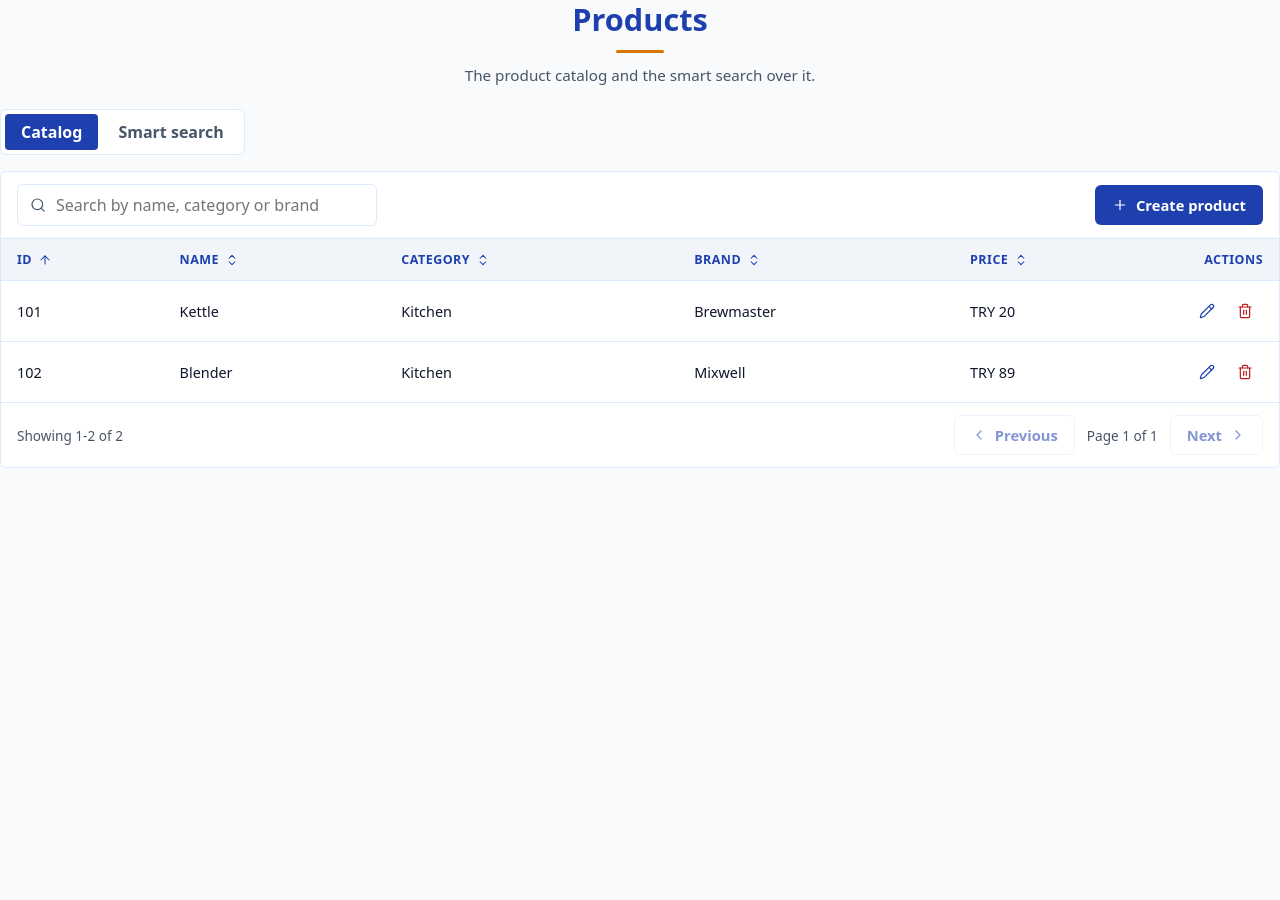
it: a price with three decimals or above 999.99 is refused
This screenshot has width=1280, height=900.
Expected: the text "Kettle" is shown, [164, 281, 385, 342]
Click the button "Create product" at (1179, 205), box [1095, 185, 1263, 225]
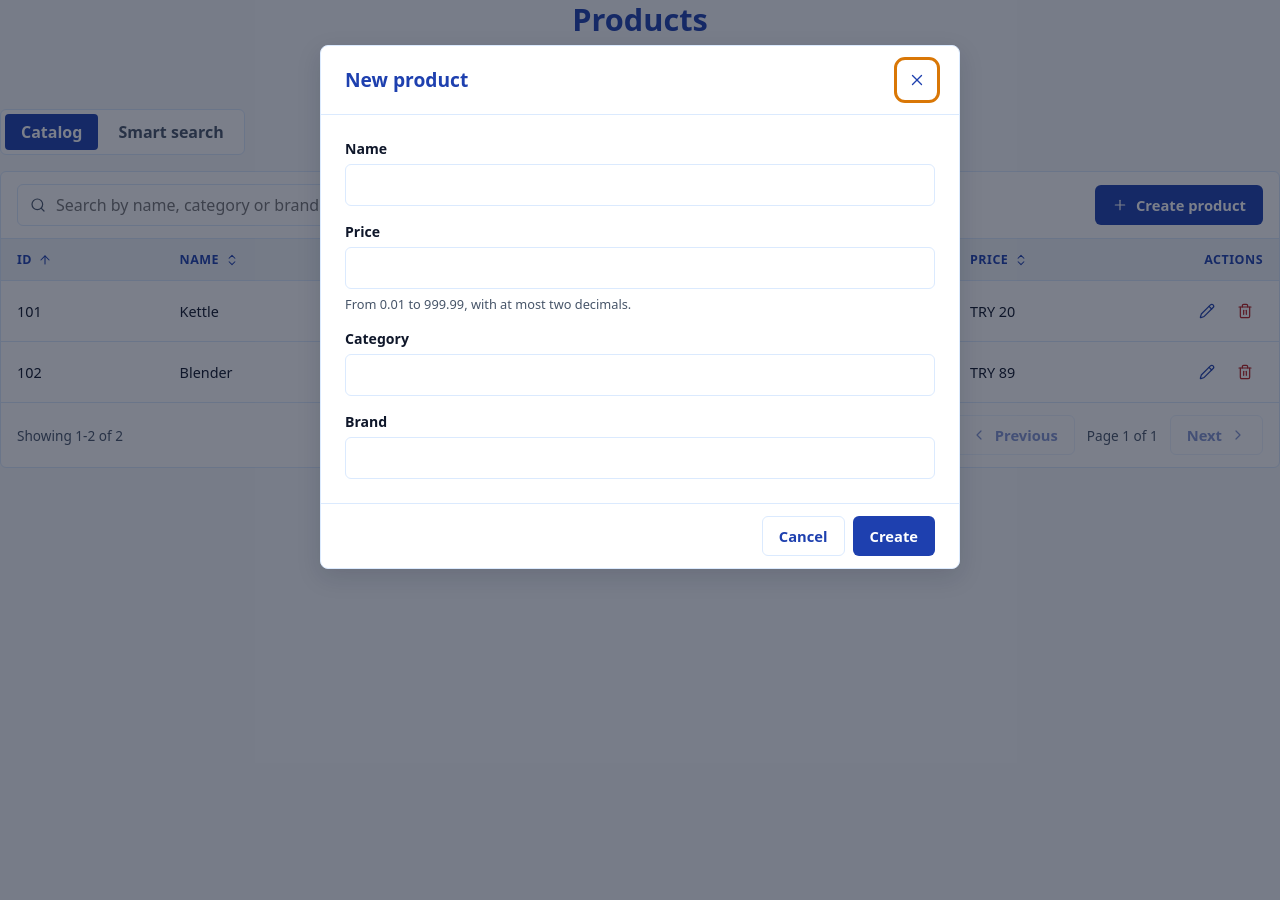
Type "1000" into the number field labelled "Price" at (640, 268), box [345, 247, 935, 289]
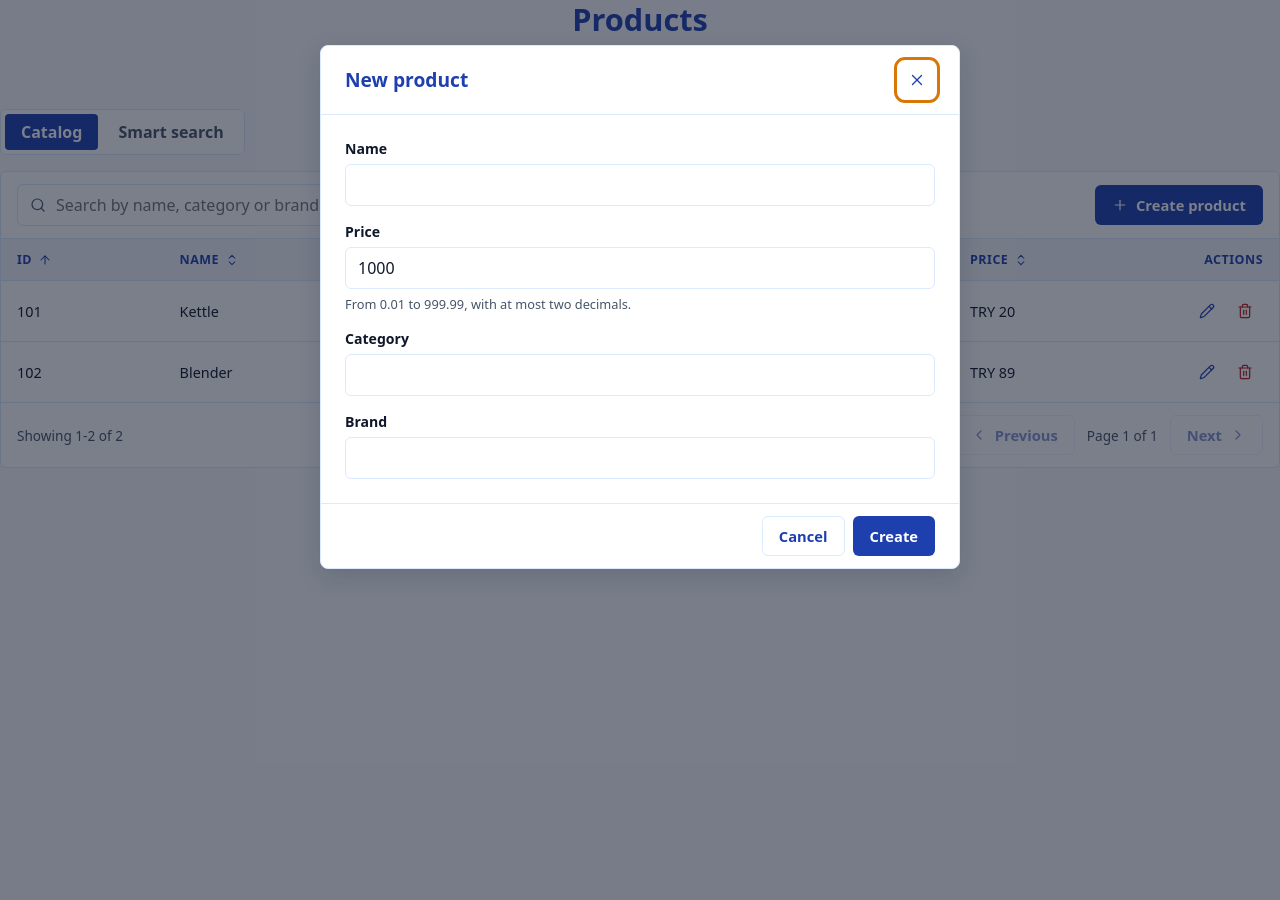
Click the button "Create" at (894, 536), box [852, 516, 935, 556]
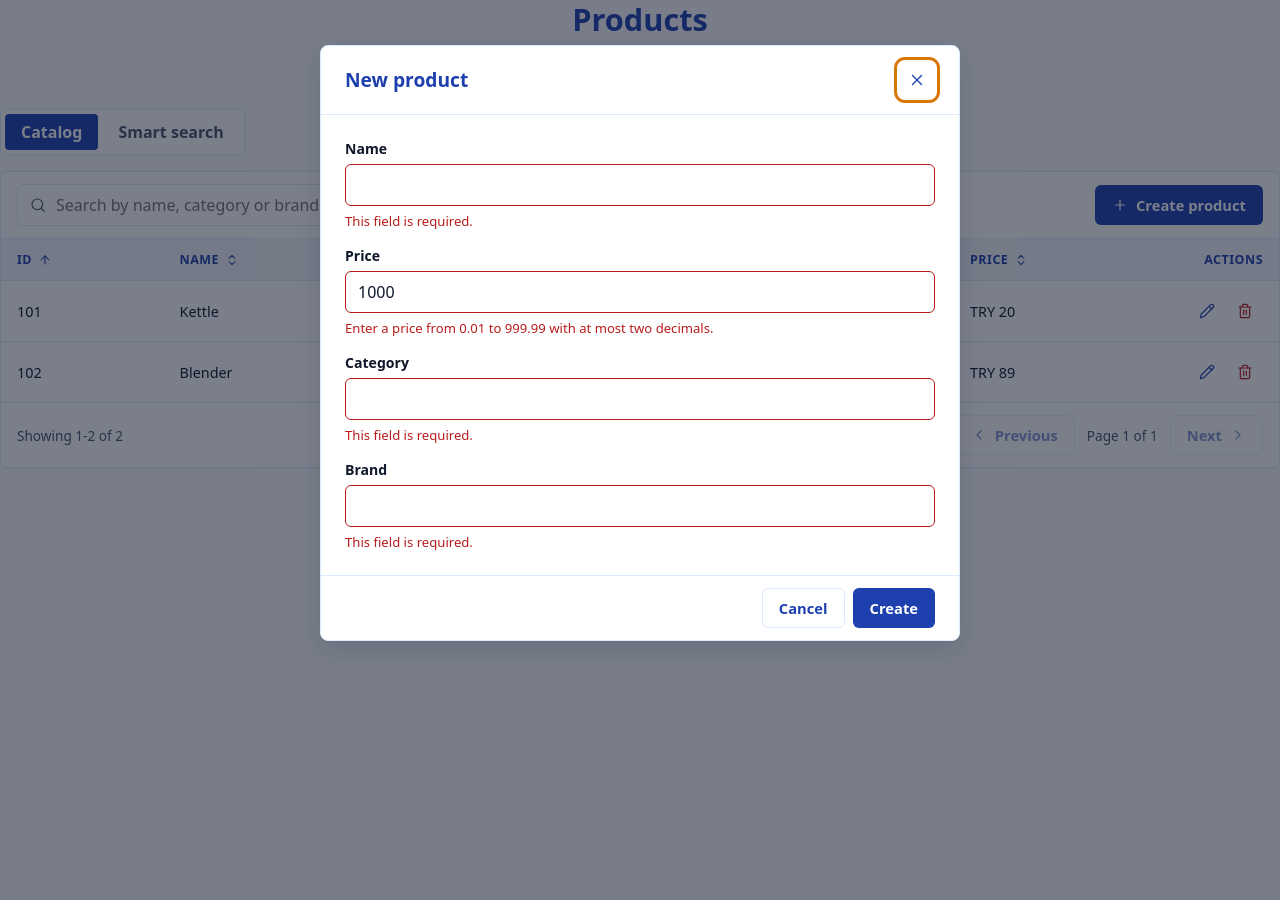
Now the text "Enter a price from 0.01 to 999.99 with at most two decimals." is shown, box [345, 319, 714, 337]
